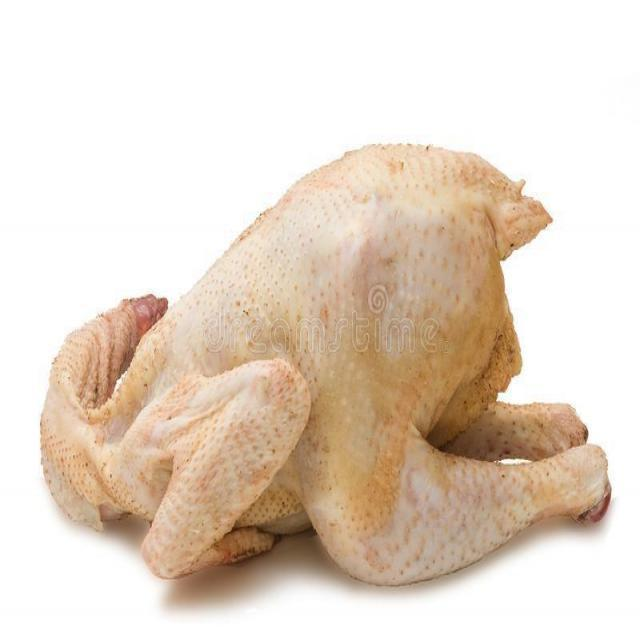chicken: (41, 141, 610, 581)
